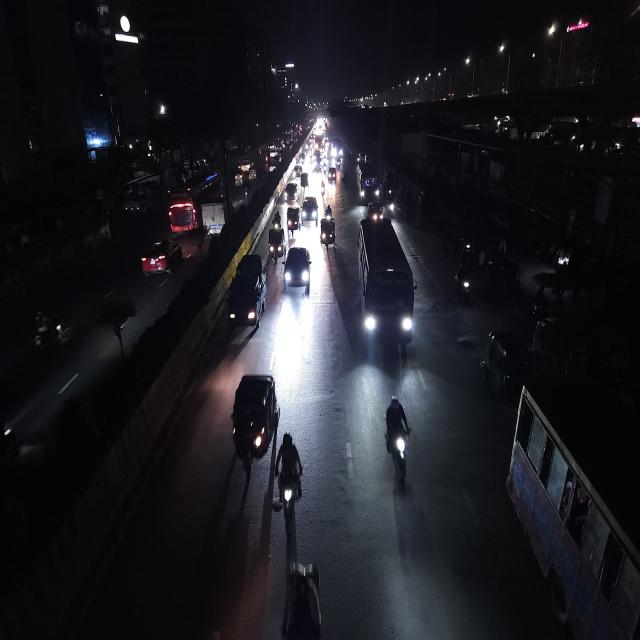bus: (507, 375, 639, 640), (354, 214, 418, 360), (166, 173, 205, 233), (355, 160, 381, 206)
car: (479, 326, 539, 410), (224, 250, 267, 342), (139, 236, 184, 282), (283, 242, 313, 296), (319, 210, 337, 252), (301, 194, 319, 228), (281, 180, 300, 205), (313, 154, 323, 172), (294, 162, 306, 175), (241, 158, 252, 172), (268, 159, 278, 173)
cng: (229, 369, 281, 480), (267, 223, 285, 266), (286, 204, 300, 237), (368, 198, 384, 222), (234, 167, 246, 188), (299, 172, 309, 192), (327, 166, 337, 185)
motorcycle: (382, 392, 416, 487), (274, 428, 306, 524), (453, 258, 475, 306), (272, 208, 282, 230), (318, 180, 326, 202)
pickup_van: (120, 170, 160, 217)
rickshaw: (340, 173, 350, 188)
truck: (200, 191, 228, 240)
